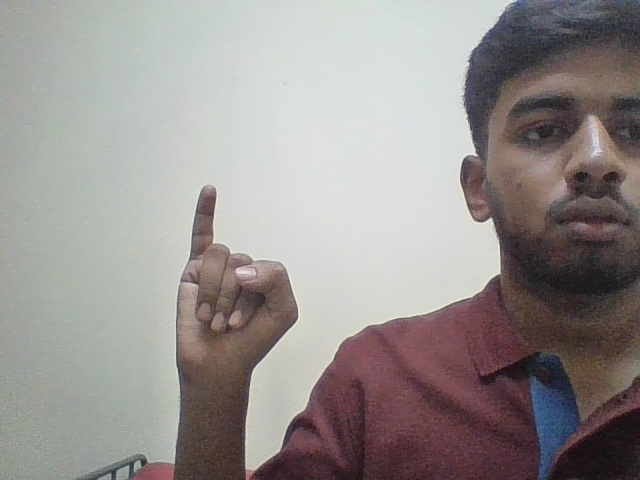I: (162, 172, 303, 405)
